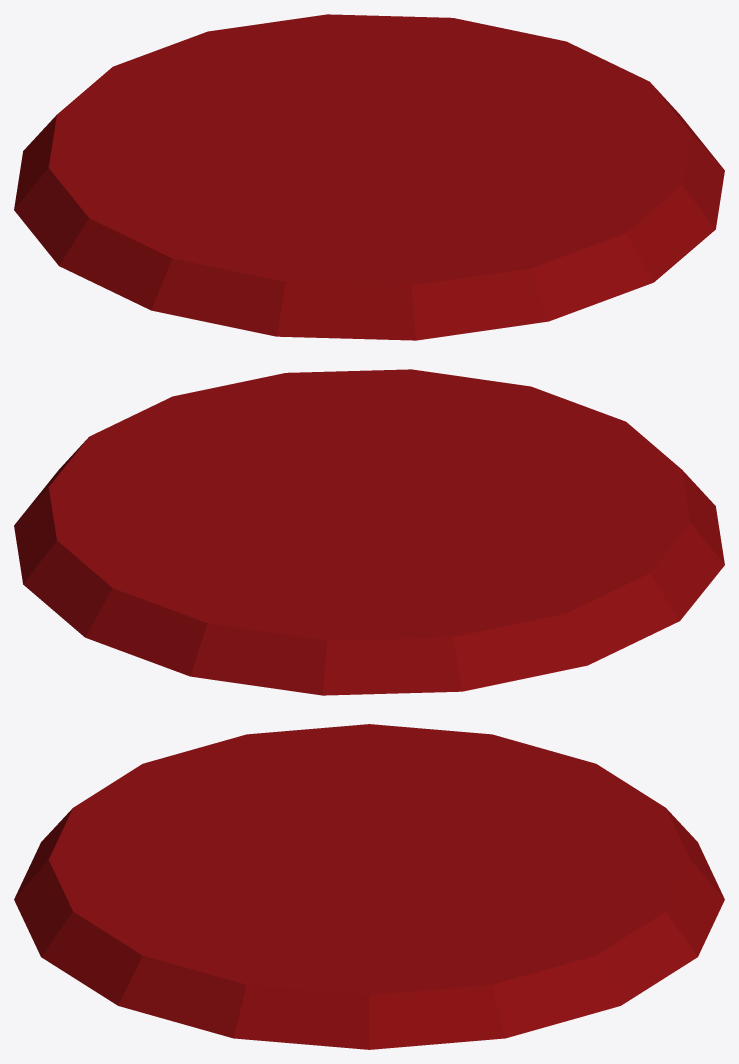
Rendered from Canopy_Skirt.obj.
3 renders of one model, top to bottom at view 1: azimuth 30°, elevation 25°; view 2: azimuth 150°, elevation 25°; view 3: azimuth 270°, elevation 25°, orthographic.
Parts seen in each view (by area): view 1: Canopy_Skirt; view 2: Canopy_Skirt; view 3: Canopy_Skirt.
Part boxes in pixels (left/top/right/bottom): Canopy_Skirt: left=14, top=14, right=724, bottom=340; Canopy_Skirt: left=14, top=369, right=724, bottom=695; Canopy_Skirt: left=14, top=724, right=724, bottom=1049.
Bounding box in the file's own units: 6.76 × 0.42 × 6.76.
